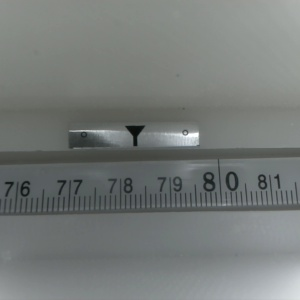0: (225, 171, 239, 191)
1: (273, 174, 280, 189)
6: (19, 180, 30, 197)
7: (157, 176, 167, 192), (3, 181, 13, 197), (55, 180, 65, 195), (72, 179, 81, 195), (107, 178, 116, 194)
8: (202, 171, 216, 191), (256, 174, 266, 189), (123, 177, 132, 193)
9: (172, 176, 182, 192)
finger: (123, 125, 145, 147)
